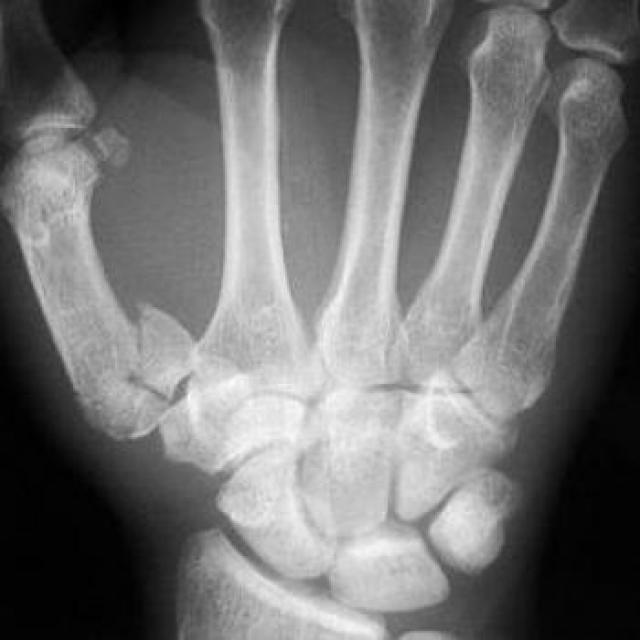fracture: (111, 298, 214, 419)
